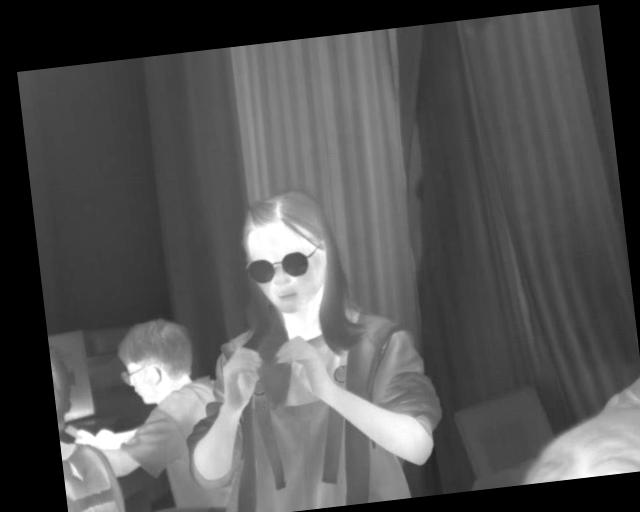face: (236, 186, 337, 318)
